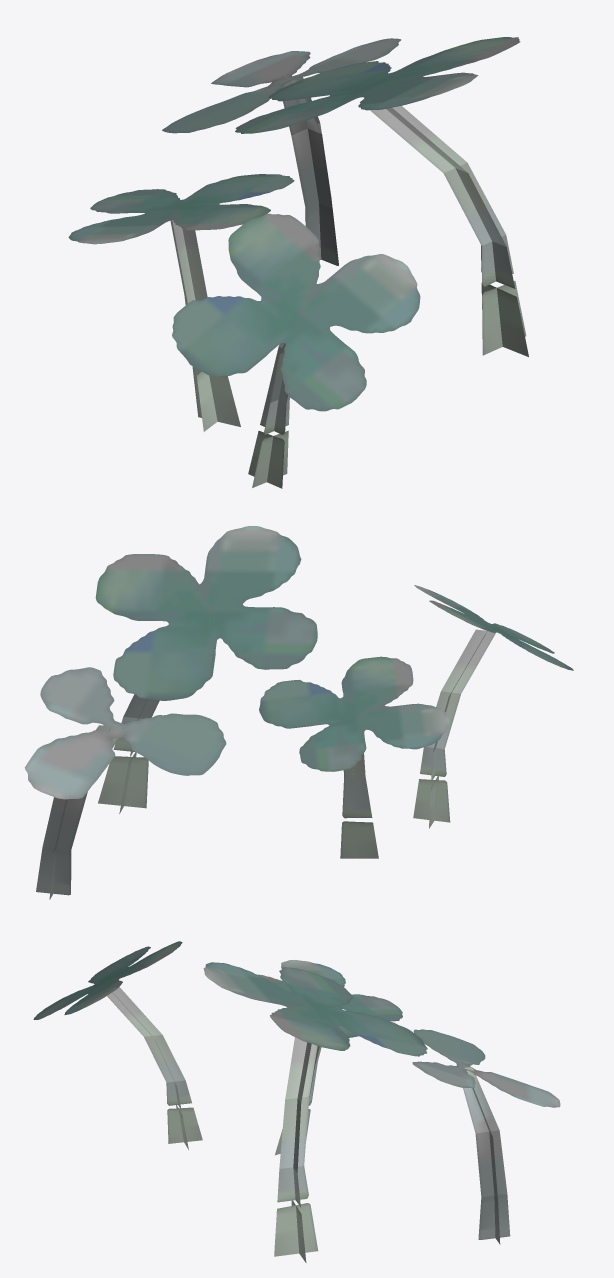
Rendered from pref_sm_beach_winter_techclover02b_lv3.fbx.
The picture shows the model from 3 angles, top to bottom: view 1: azimuth 30°, elevation 25°; view 2: azimuth 150°, elevation 25°; view 3: azimuth 270°, elevation 25°; orthographic projection. The views are drawn at different scales.
Parts seen in each view (by area): view 1: pref_sm_beach_winter_techclover02b_lv3; view 2: pref_sm_beach_winter_techclover02b_lv3; view 3: pref_sm_beach_winter_techclover02b_lv3.
Part boxes in pixels (x1,y1,x2,y2): pref_sm_beach_winter_techclover02b_lv3: (68, 37, 528, 488); pref_sm_beach_winter_techclover02b_lv3: (24, 526, 573, 899); pref_sm_beach_winter_techclover02b_lv3: (33, 941, 560, 1262).
Bounding box in the file's own units: 1.06 × 0.6378 × 1.36.
